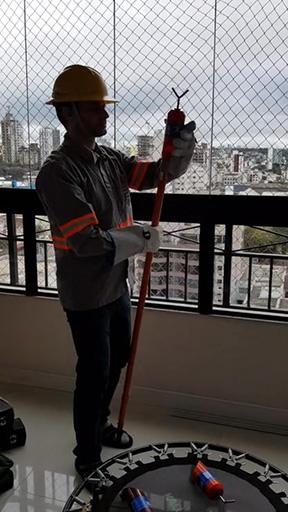Detector_Tensao_Contato: (160, 87, 190, 158)
Vara_Manobra: (118, 156, 171, 436)
